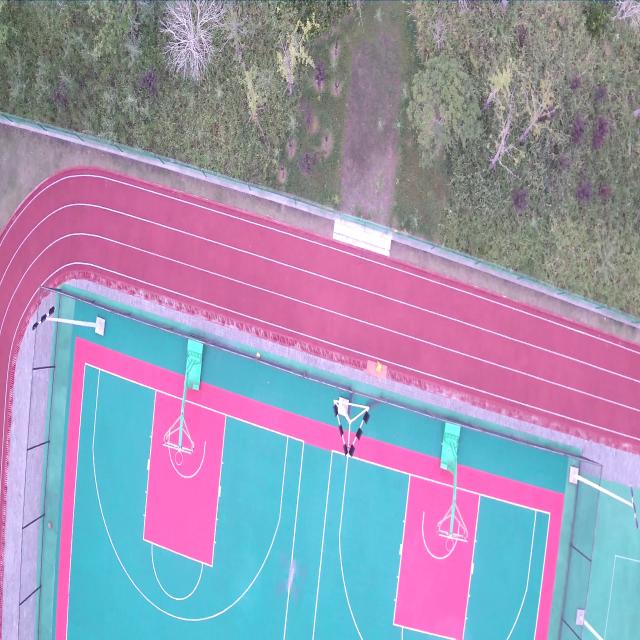UAV: (274, 553, 308, 600)
